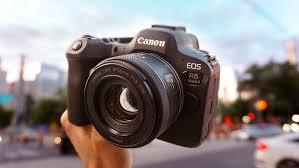camera: (68, 26, 216, 148)
